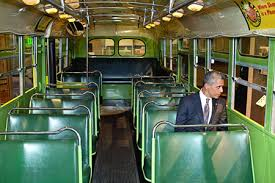seat: (3, 126, 85, 181)
